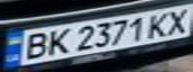1: (127, 14, 151, 43)
2: (72, 22, 96, 52)
3: (93, 20, 115, 48)
7: (109, 17, 133, 46)
B: (18, 29, 51, 61)
K: (42, 26, 72, 56), (145, 10, 175, 38)
X: (163, 6, 193, 35)
